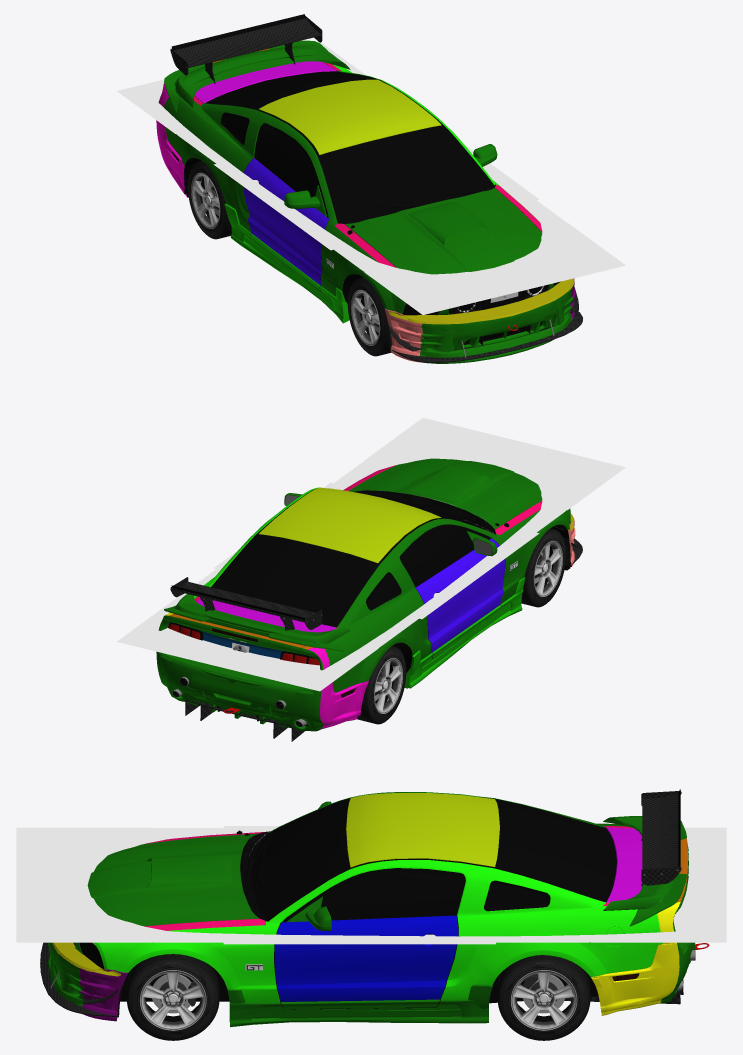
Rendered from mustang_gt.fbx.
3 renders of one model, top to bottom at view 1: azimuth 30°, elevation 25°; view 2: azimuth 150°, elevation 25°; view 3: azimuth 270°, elevation 25°, orthographic. The views are drawn at different scales.
Visible parts, largest first — view 1: for_mustanggt_05_body_body_, neon (×4), for_mustanggt_05_glassF_window_, for_mustanggt_05_hoodf_body_, for_mustanggt_05_bumperFe_body_, for_mustanggt_05_hooda_body_, for_mustanggt_05_wingrace_carbon_fiber_, for_mustanggt_05_body_black_glass_, shadow, for_mustanggt_05_bumperFb_body_, for_mustanggt_05_wheel_tire_ (×2), for_mustanggt_05_glassRF_window_ (+16 smaller); view 2: for_mustanggt_05_body_body_, neon (×3), for_mustanggt_05_glassR_window_, shadow, for_mustanggt_05_bumperRf_body_, for_mustanggt_05_hoodf_body_, for_mustanggt_05_wheel_tire_ (×2), for_mustanggt_05_hooda_body_, for_mustanggt_05_glassRF_window_, for_mustanggt_05_wheel_rim_ (×2), for_mustanggt_05_wingrace_carbon_fiber_, for_mustanggt_05_hoode_body_ (+14 smaller); view 3: for_mustanggt_05_body_body_, neon (×3), shadow, for_mustanggt_05_wheel_tire_ (×2), for_mustanggt_05_glassR_window_, for_mustanggt_05_hoodf_body_, for_mustanggt_05_glassF_window_, for_mustanggt_05_glassLF_window_, for_mustanggt_05_hooda_body_, for_mustanggt_05_bumperRf_body_, for_mustanggt_05_wheel_rim_ (×2), for_mustanggt_05_body_black_glass_ (+19 smaller).
Part boxes in pixels (x1,y1,x2,y2): for_mustanggt_05_body_body_: (163,62,542,313); neon (×4): (117,42,625,314); for_mustanggt_05_glassF_window_: (323,129,478,211); for_mustanggt_05_hoodf_body_: (345,188,539,274); for_mustanggt_05_bumperFe_body_: (385,278,574,356); for_mustanggt_05_hooda_body_: (348,187,542,274); for_mustanggt_05_wingrace_carbon_fiber_: (170,16,322,83); for_mustanggt_05_body_black_glass_: (205,71,491,222); shadow: (164,111,566,291); for_mustanggt_05_bumperFb_body_: (388,284,575,357); for_mustanggt_05_wheel_tire_ (×2): (188,160,392,356); for_mustanggt_05_glassRF_window_: (256,126,317,197); for_mustanggt_05_body_body_: (168,465,570,692); neon (×3): (117,418,625,691); for_mustanggt_05_glassR_window_: (220,537,370,620); shadow: (167,441,578,667); for_mustanggt_05_bumperRf_body_: (156,612,364,724); for_mustanggt_05_hoodf_body_: (350,460,540,529); for_mustanggt_05_wheel_tire_ (×2): (357,528,566,724); for_mustanggt_05_hooda_body_: (349,458,542,527); for_mustanggt_05_glassRF_window_: (401,527,473,585); for_mustanggt_05_wheel_rim_ (×2): (374,540,562,713); for_mustanggt_05_wingrace_carbon_fiber_: (170,577,322,630); for_mustanggt_05_hoode_body_: (407,460,541,529); for_mustanggt_05_body_body_: (92,792,663,1002); neon (×3): (16,827,726,944); shadow: (53,828,689,942); for_mustanggt_05_wheel_tire_ (×2): (126,954,590,1040); for_mustanggt_05_glassR_window_: (501,802,612,892); for_mustanggt_05_hoodf_body_: (87,833,258,924); for_mustanggt_05_glassF_window_: (262,801,344,906); for_mustanggt_05_glassLF_window_: (321,871,461,919); for_mustanggt_05_hooda_body_: (93,835,258,926); for_mustanggt_05_bumperRf_body_: (591,838,695,1012); for_mustanggt_05_wheel_rim_ (×2): (142,970,577,1030); for_mustanggt_05_body_black_glass_: (250,799,615,920).
Size of the model in its own units: 4 by 1.38 by 5.25.
